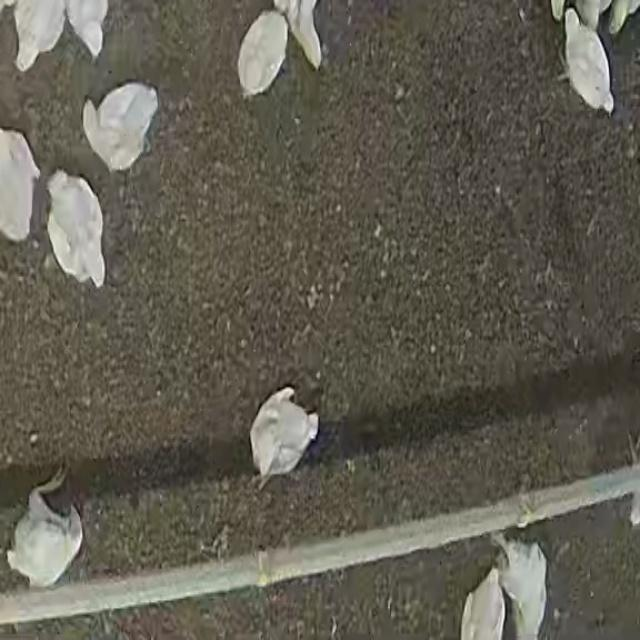chicken: (7, 475, 87, 589), (47, 171, 108, 291), (251, 388, 327, 482), (79, 82, 159, 170), (563, 10, 618, 116), (499, 533, 553, 640), (0, 129, 39, 243), (238, 11, 284, 100), (456, 563, 505, 640)
